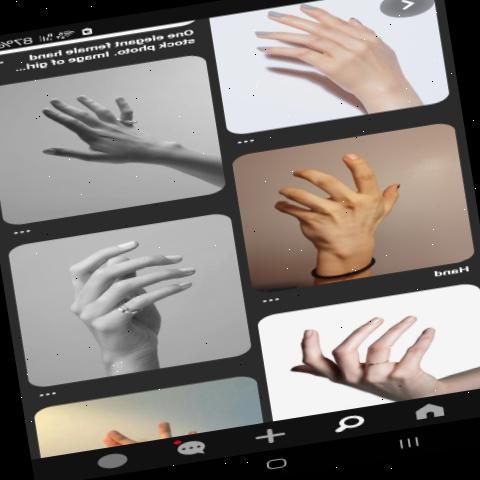Hands: (35, 217, 213, 362), (263, 140, 417, 280), (22, 76, 193, 194), (282, 302, 450, 412), (246, 0, 399, 108)
